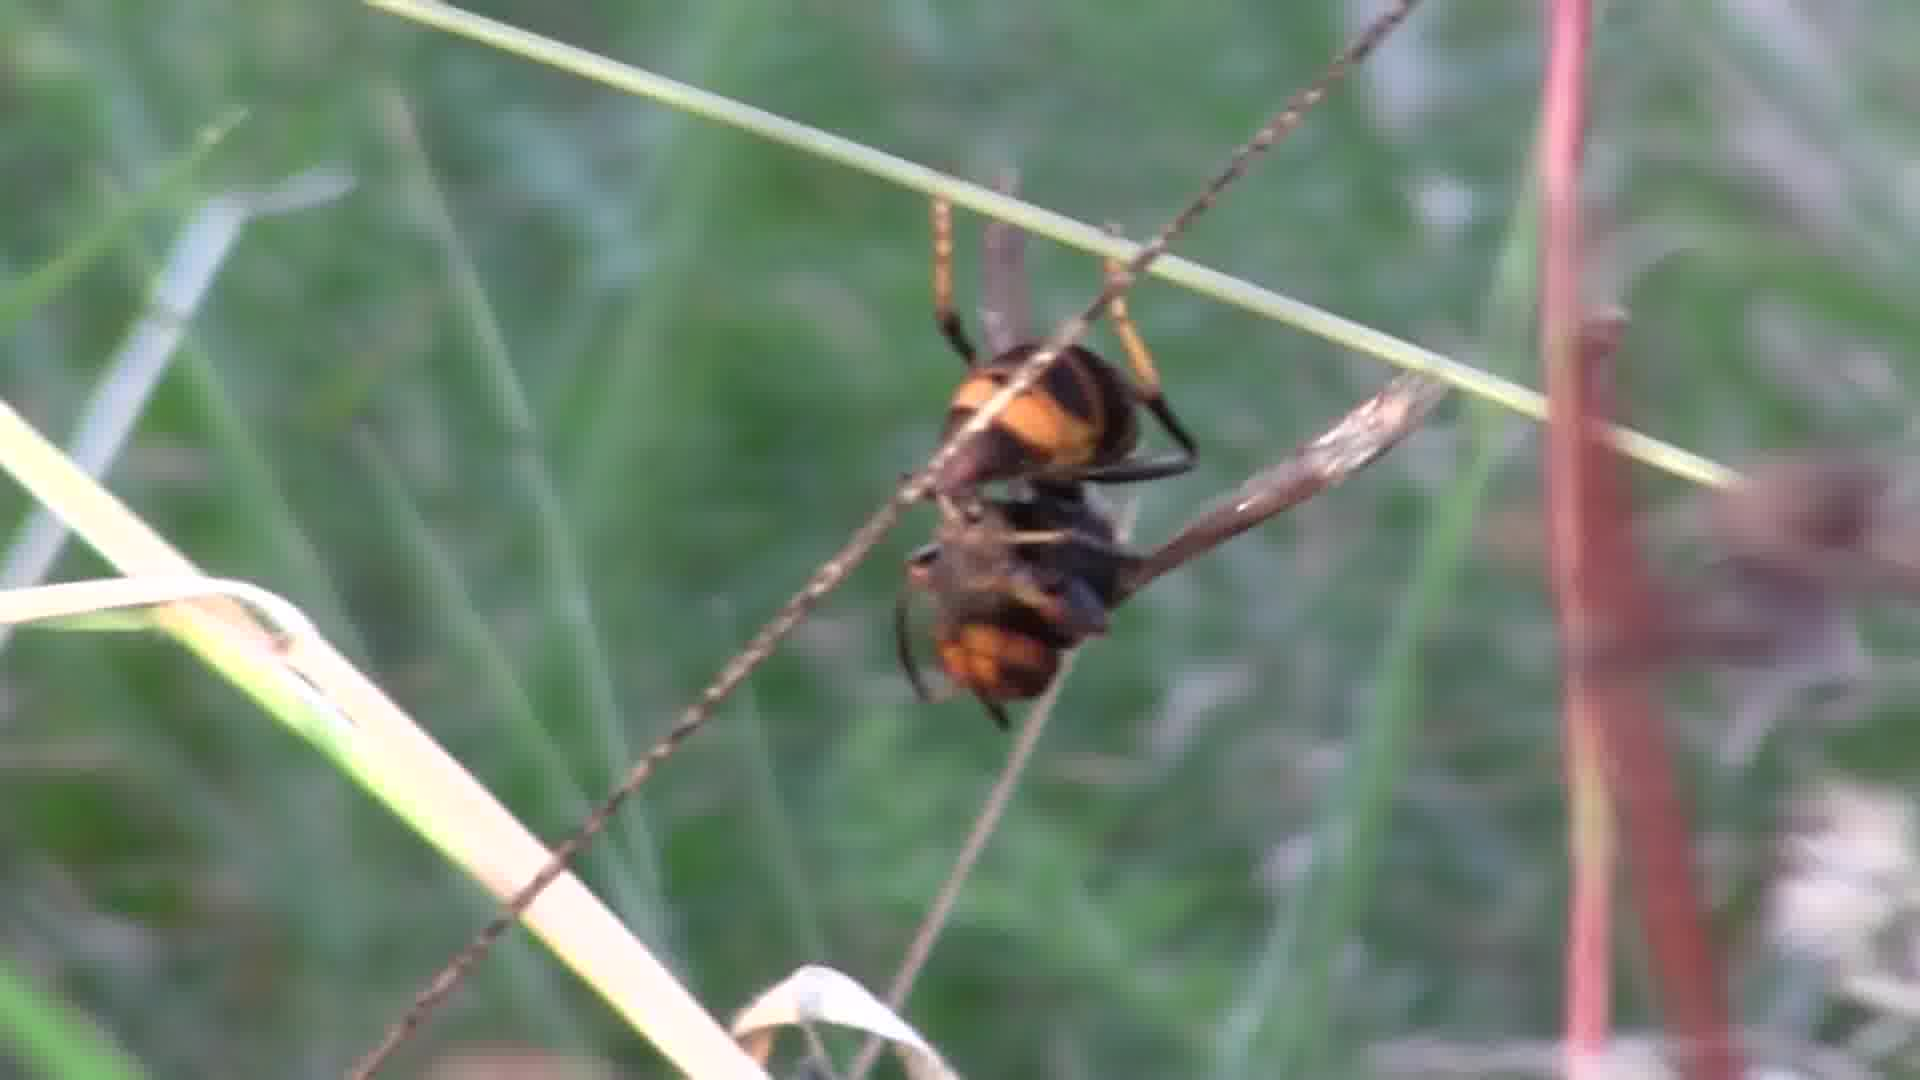hornet: (852, 171, 1240, 752)
